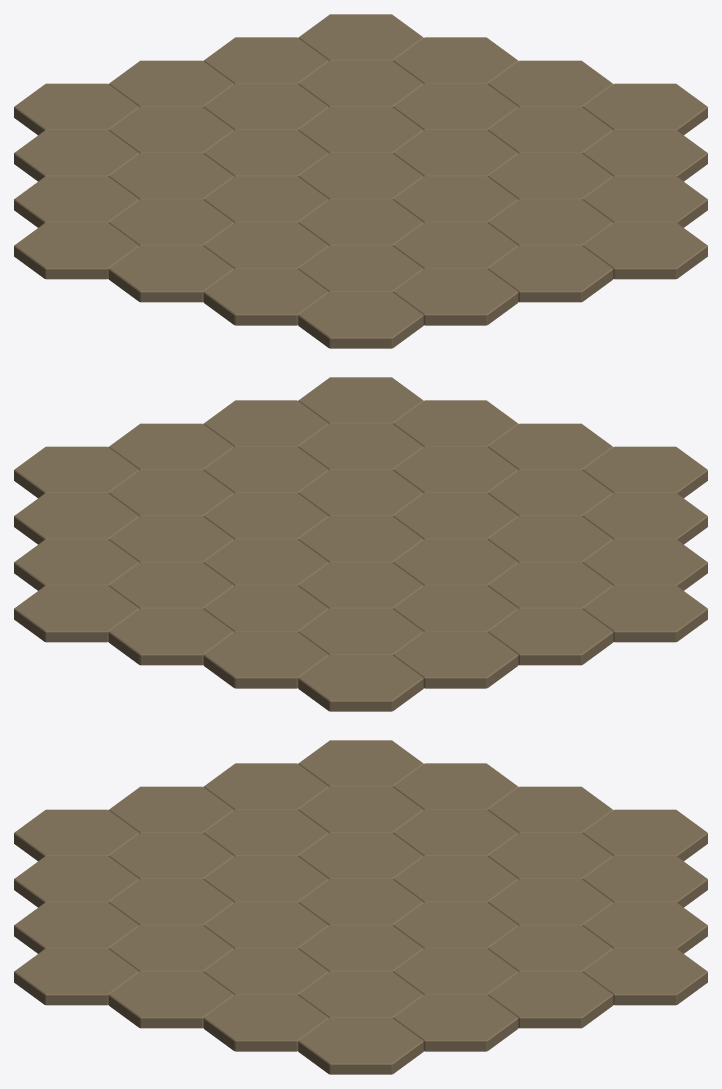
The model's file is bigtile.fbx.
3 views of the same model, one above another, from view 1: azimuth 30°, elevation 25°; view 2: azimuth 150°, elevation 25°; view 3: azimuth 270°, elevation 25° (orthographic).
Parts seen in each view (by area): view 1: tile_theme.013; view 2: tile_theme.013; view 3: tile_theme.013.
Part boxes in pixels (<box>): tile_theme.013: <box>14,14,707,348</box>; tile_theme.013: <box>14,377,707,711</box>; tile_theme.013: <box>14,740,707,1074</box>.
Size of the model in its own units: 14479 by 229 by 13117.
